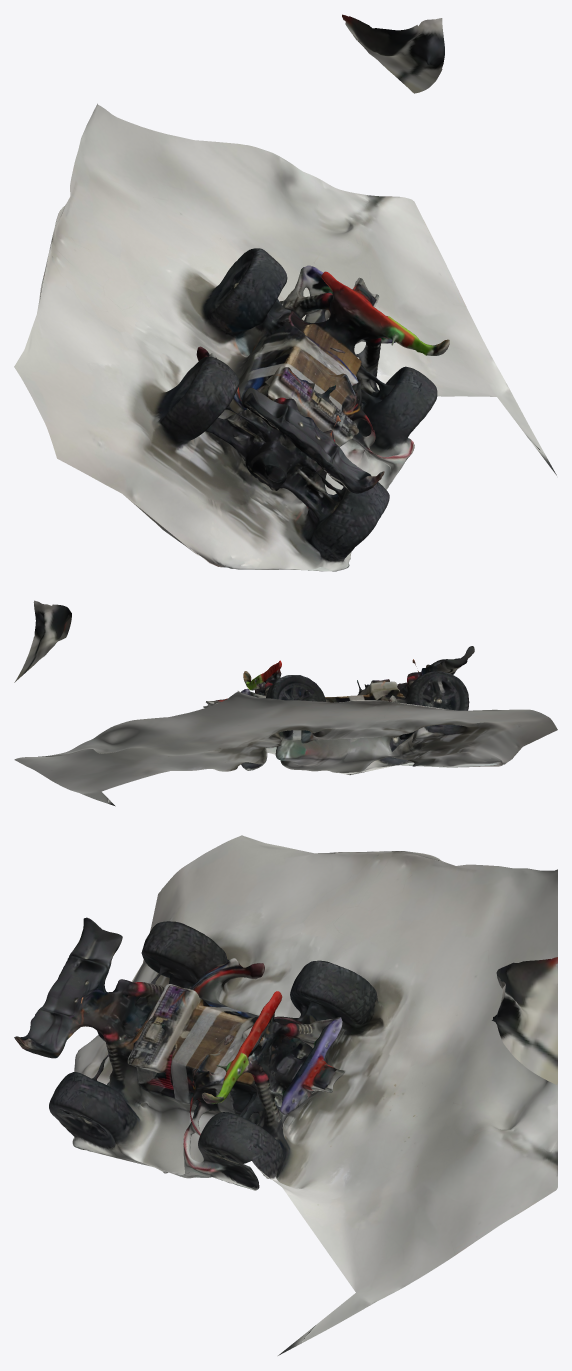
The model's file is utcarTest.glb.
The picture shows the model from 3 angles, top to bottom: view 1: azimuth 30°, elevation 25°; view 2: azimuth 150°, elevation 25°; view 3: azimuth 270°, elevation 25°; orthographic projection. The views are drawn at different scales.
Parts seen in each view (by area): view 1: 3DModel; view 2: 3DModel; view 3: 3DModel.
Part boxes in pixels (x1,y1,x2,y2): 3DModel: [14, 14, 556, 571]; 3DModel: [14, 600, 557, 806]; 3DModel: [14, 835, 557, 1355].
Bounding box in the file's own units: 1.7 × 1.09 × 1.47.
Materials: 1 (1 with a texture image).
